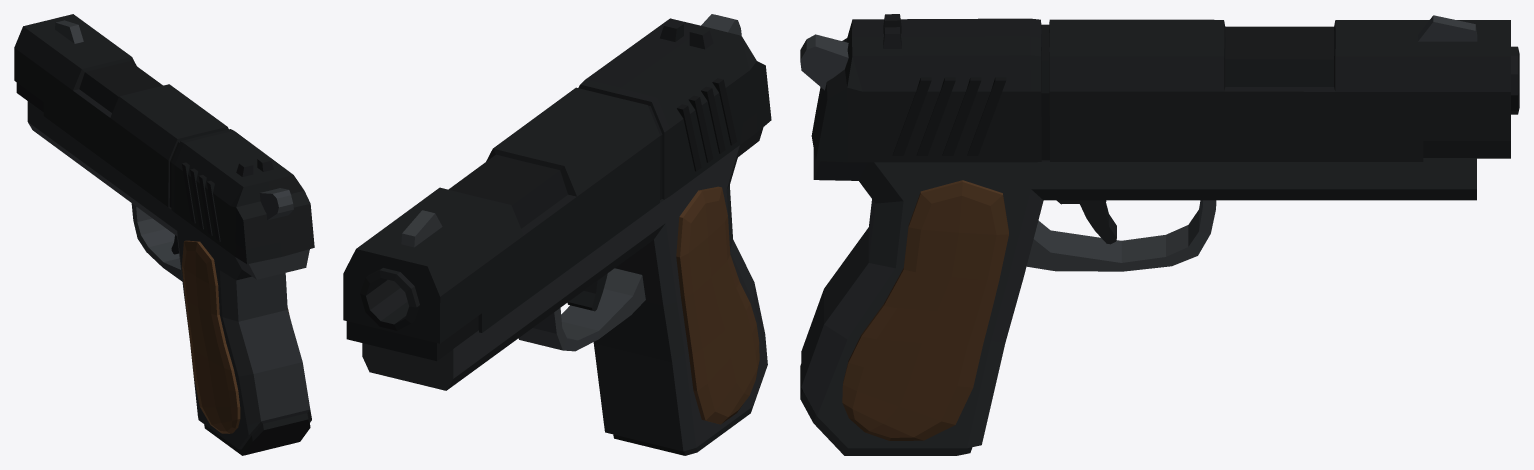
Rendered from pistol.glb.
The picture shows the model from 3 angles, left to right: view 1: azimuth 30°, elevation 25°; view 2: azimuth 150°, elevation 25°; view 3: azimuth 270°, elevation 25°; orthographic projection. The views are drawn at different scales.
Visible parts, largest first — view 1: weapon_pistol; view 2: weapon_pistol; view 3: weapon_pistol.
Part boxes in pixels (x1,y1,x2,y2): weapon_pistol: (14, 14, 314, 455); weapon_pistol: (343, 14, 771, 455); weapon_pistol: (800, 14, 1519, 455).
Bounding box in the file's own units: 0.0373 × 0.1341 × 0.21.
